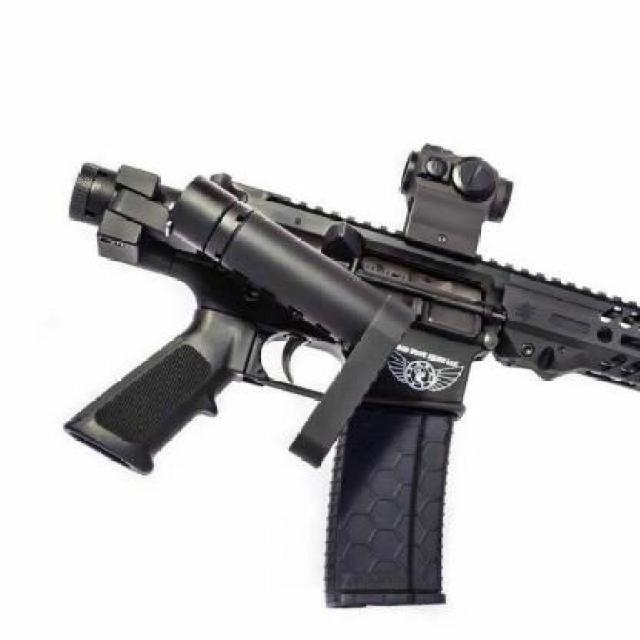weapon: (71, 146, 640, 610)
